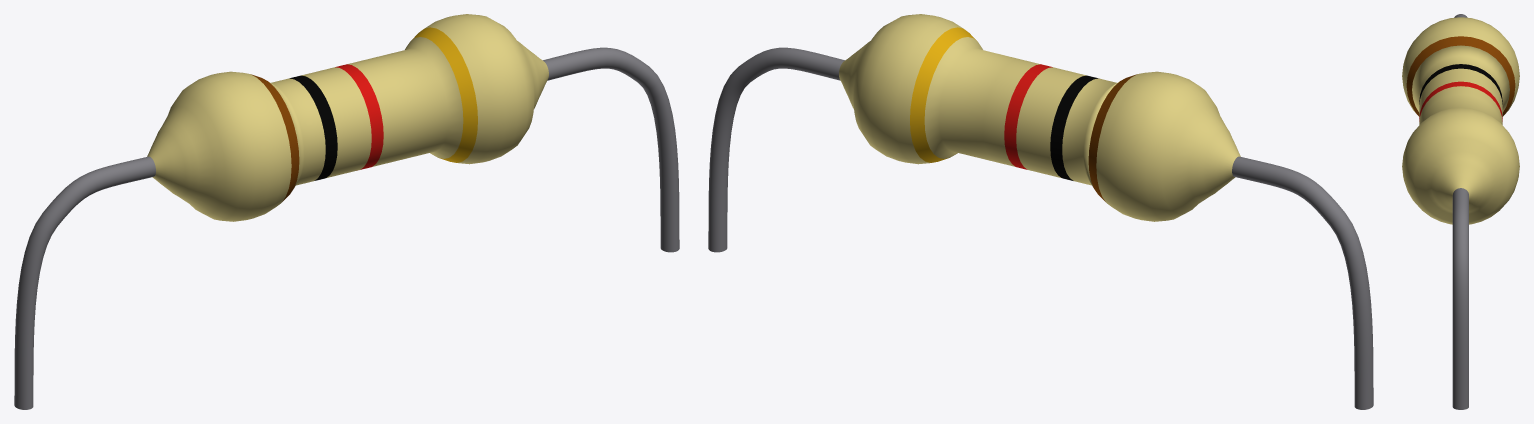
Rendered from Prefab_Resistor1K.fbx.
3 renders of one model, left to right at view 1: azimuth 30°, elevation 25°; view 2: azimuth 150°, elevation 25°; view 3: azimuth 270°, elevation 25°, orthographic. The views are drawn at different scales.
Parts seen in each view (by area): view 1: Resistor.006, Patas.005, Tolerancia.006, 2Cifra.006, 3Cifra.006, 1Cifra.006; view 2: Resistor.006, Patas.005, Tolerancia.006, 3Cifra.006, 2Cifra.006, 1Cifra.006; view 3: Resistor.006, Patas.005, 1Cifra.006, 3Cifra.006, 2Cifra.006.
Boxes of the visible parts, x1=… form: Resistor.006: x1=147, y1=14, x2=548, y2=221; Patas.005: x1=14, y1=47, x2=679, y2=409; Tolerancia.006: x1=411, y1=27, x2=477, y2=162; 2Cifra.006: x1=289, y1=75, x2=337, y2=180; 3Cifra.006: x1=335, y1=64, x2=383, y2=169; 1Cifra.006: x1=251, y1=74, x2=299, y2=201; Resistor.006: x1=839, y1=14, x2=1240, y2=221; Patas.005: x1=708, y1=47, x2=1373, y2=409; Tolerancia.006: x1=910, y1=27, x2=976, y2=162; 3Cifra.006: x1=1004, y1=64, x2=1052, y2=169; 2Cifra.006: x1=1050, y1=75, x2=1098, y2=180; 1Cifra.006: x1=1088, y1=74, x2=1136, y2=201; Resistor.006: x1=1402, y1=17, x2=1519, y2=224; Patas.005: x1=1452, y1=14, x2=1468, y2=409; 1Cifra.006: x1=1406, y1=36, x2=1515, y2=116; 3Cifra.006: x1=1419, y1=81, x2=1502, y2=121; 2Cifra.006: x1=1419, y1=64, x2=1502, y2=104.
Bounding box in the file's own units: 27.27 × 55.36 × 139.
